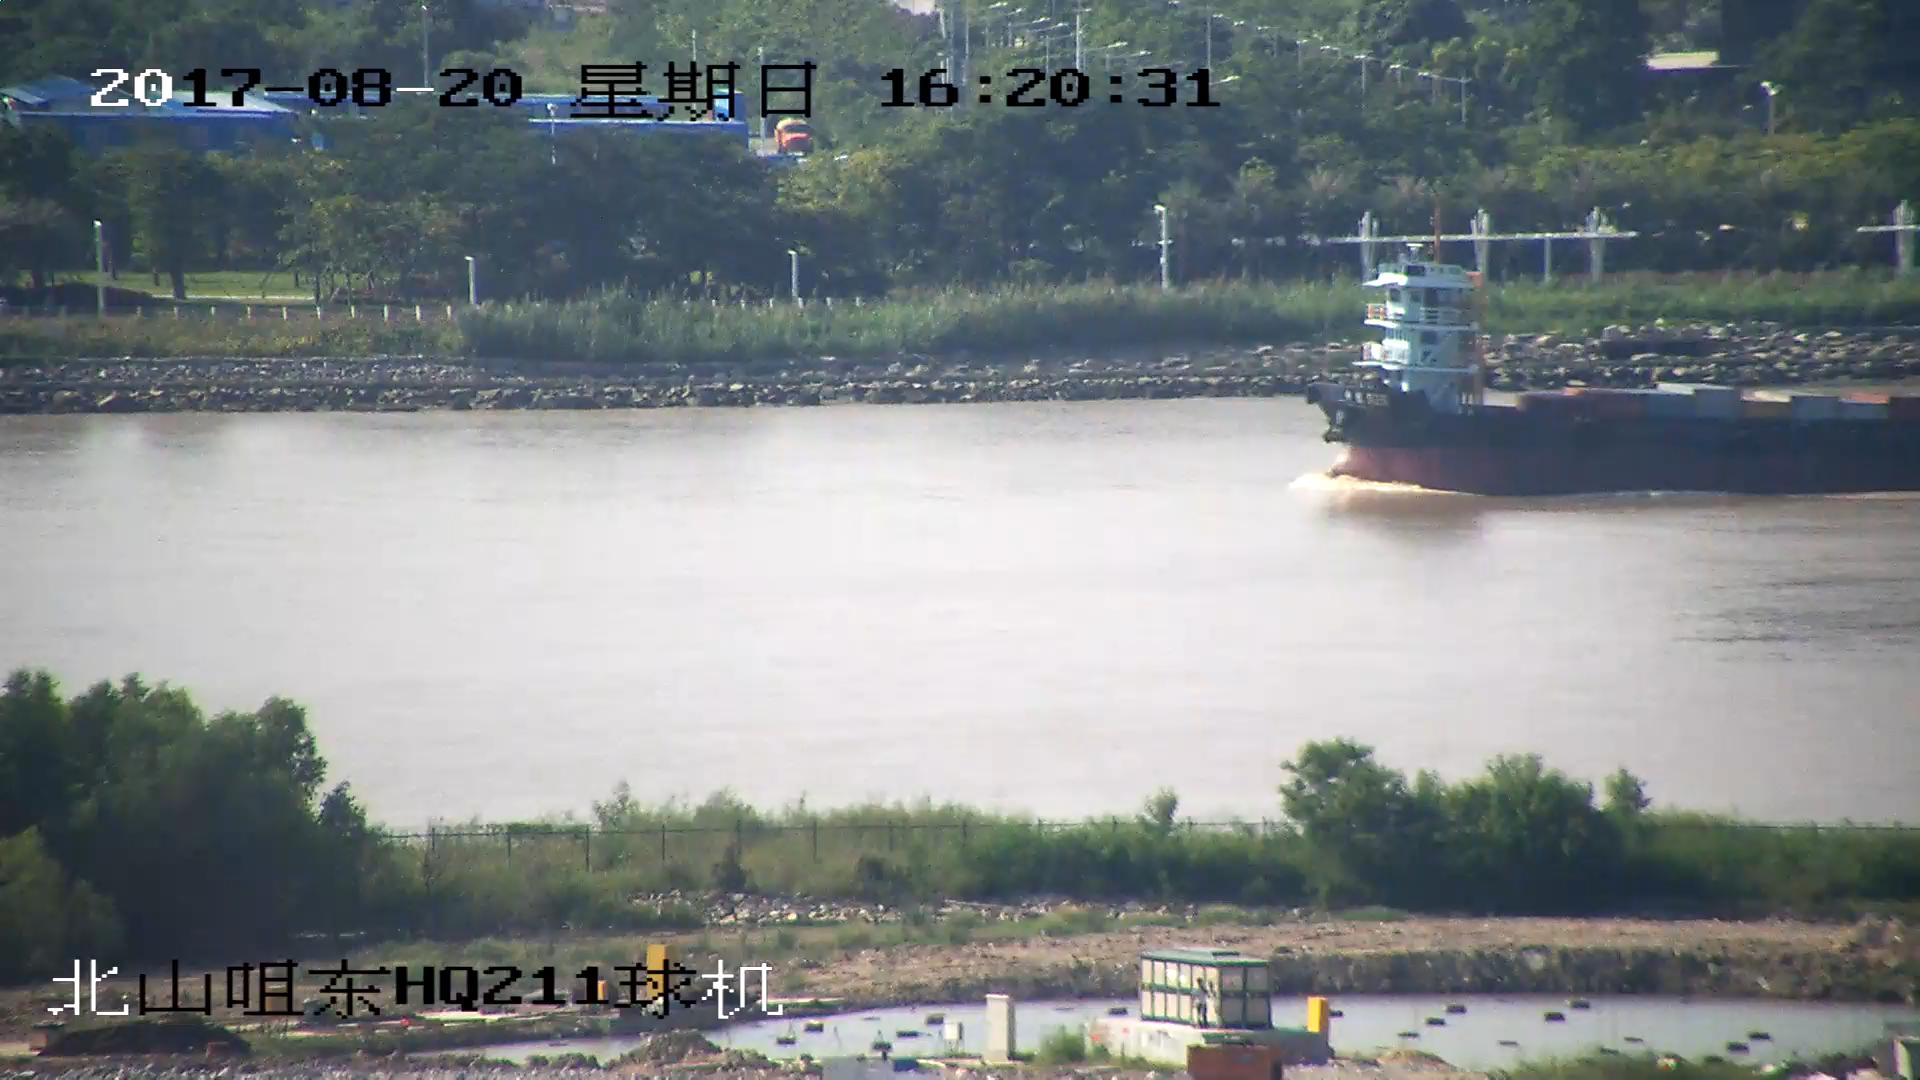container ship: (1311, 245, 1920, 494)
